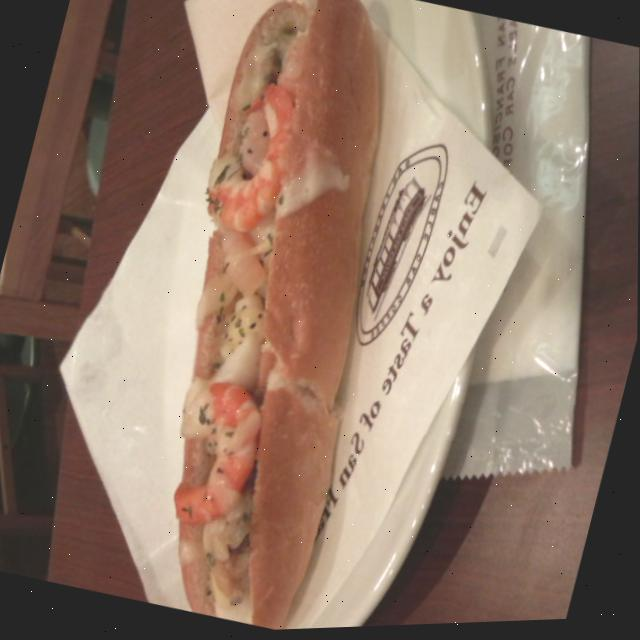汉堡快餐: (86, 0, 462, 637)
